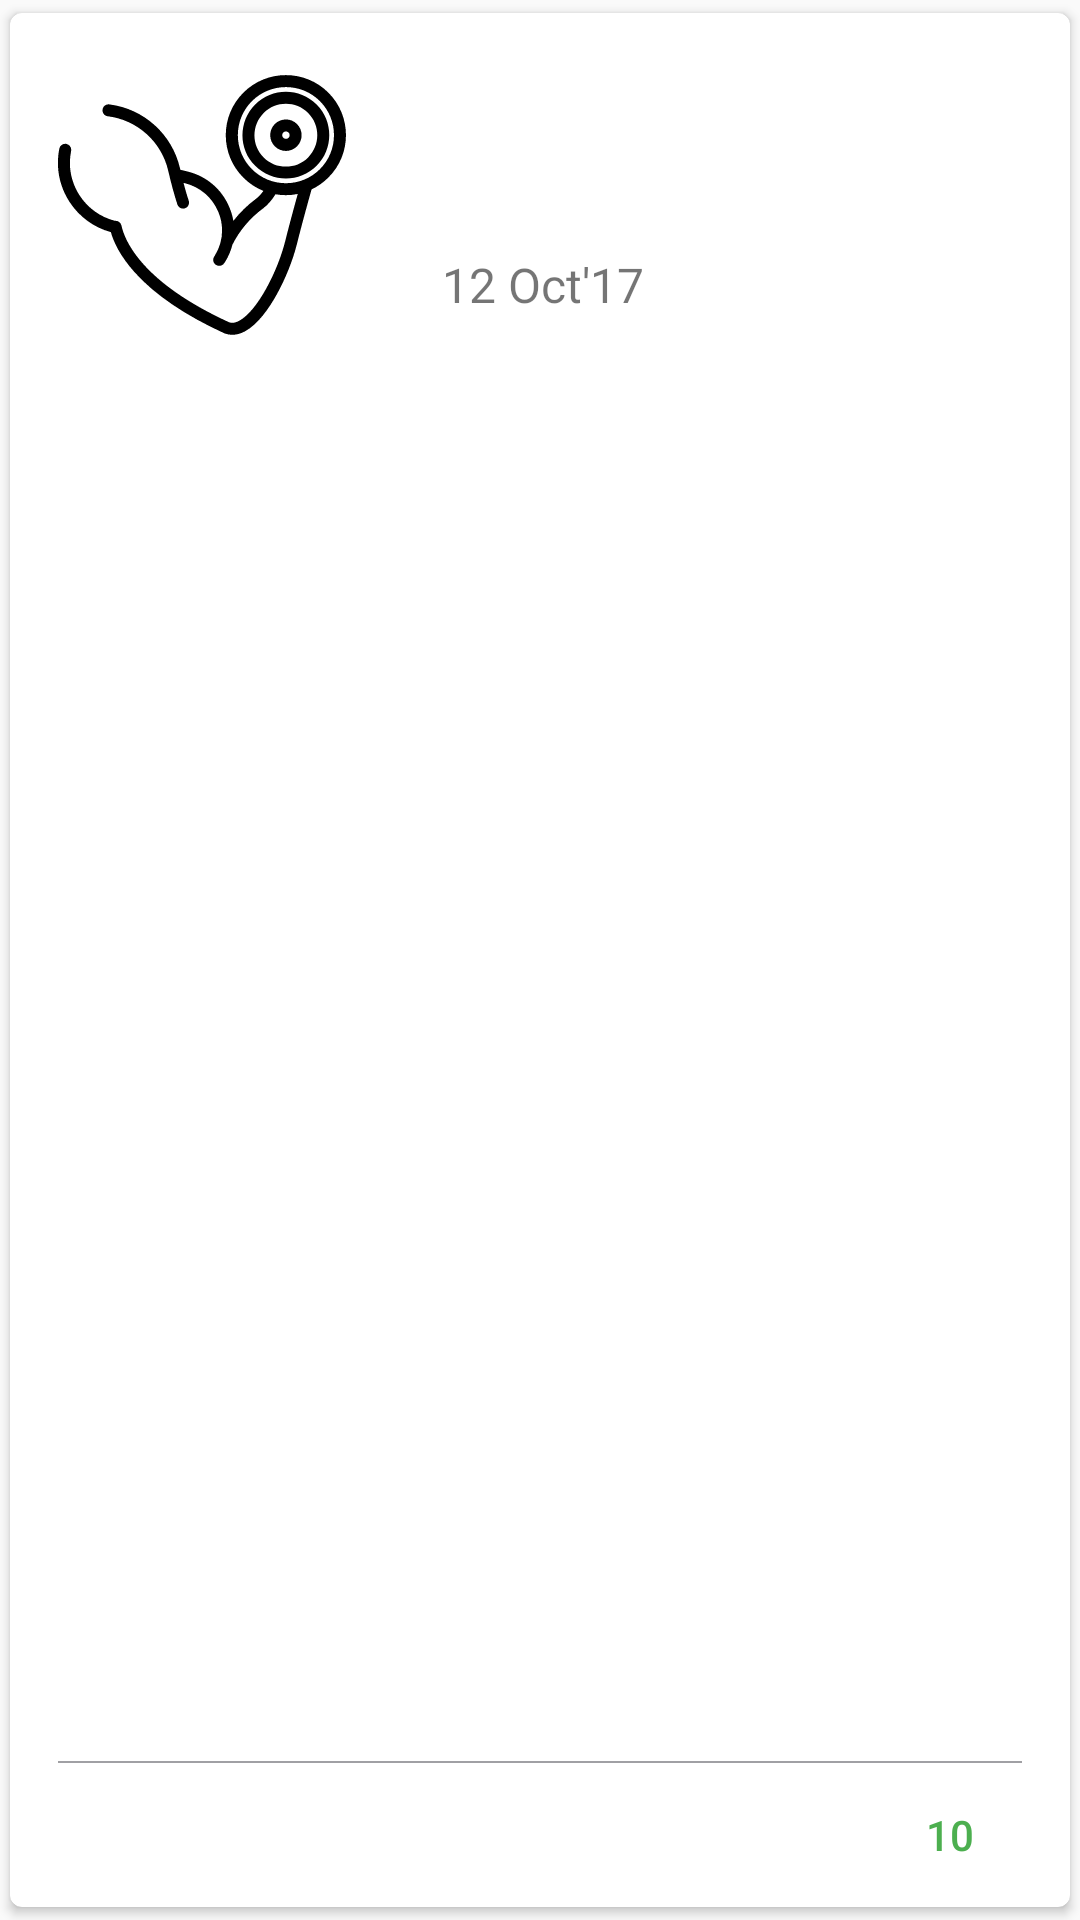

Where to tap for icons on this 1080 x 1920 app screen, as (x=x, y=y):
dumbbell: (x=202, y=205)
